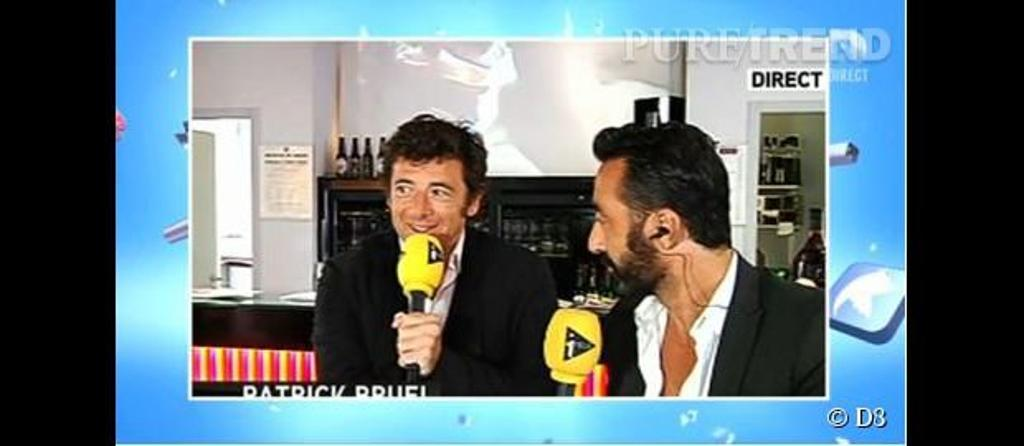face: (580, 158, 650, 280), (392, 156, 456, 250)
